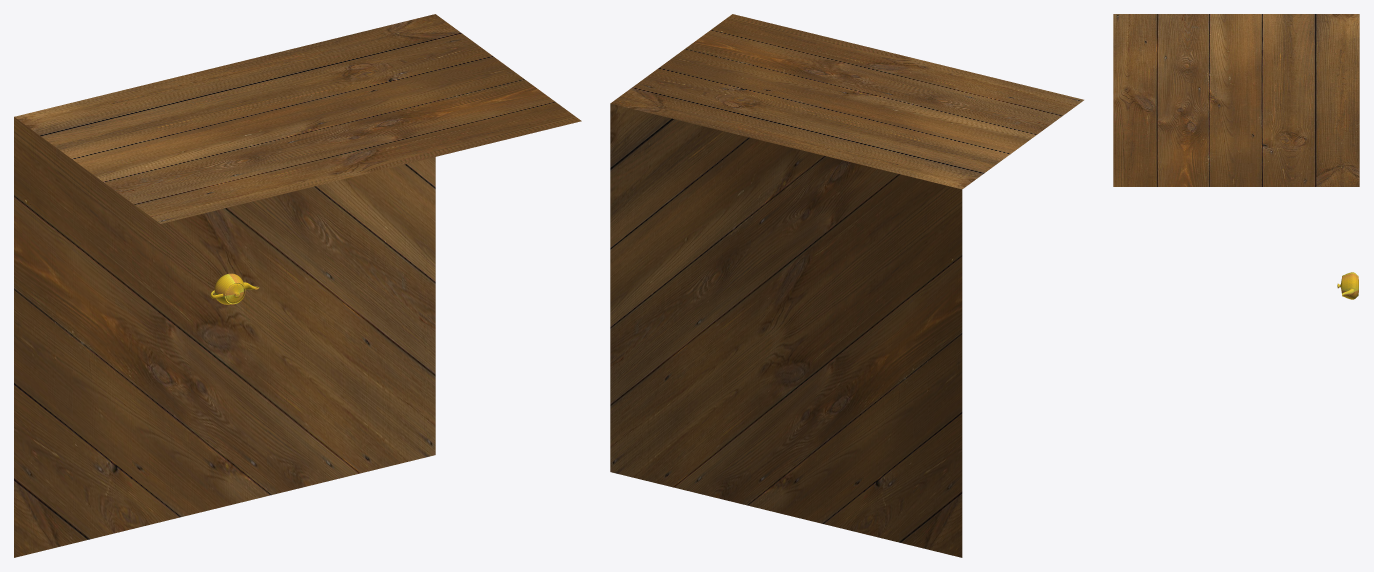
File: teapot.obj
The picture shows the model from 3 angles, left to right: view 1: azimuth 30°, elevation 25°; view 2: azimuth 150°, elevation 25°; view 3: azimuth 270°, elevation 25°; orthographic projection. The views are drawn at different scales.
Visible parts, largest first — view 1: ground_plane, back_plane, Teapot001; view 2: ground_plane, back_plane; view 3: back_plane, Teapot001.
Boxes of the visible parts, x1,y1,x2,y2 form: ground_plane: (14,117,435,557); back_plane: (14,14,581,223); Teapot001: (210,273,259,304); ground_plane: (610,103,962,557); back_plane: (610,14,1083,189); back_plane: (1113,14,1359,186); Teapot001: (1337,272,1358,299).
Bounding box in the file's own units: 300 × 300 × 180.
2 materials, 2 textured.
